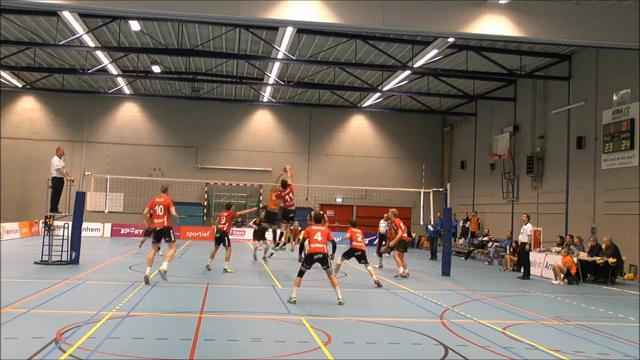Attack: (268, 160, 294, 255)
Block: (265, 163, 283, 251)
Player: (288, 212, 343, 304), (205, 202, 256, 272), (143, 185, 178, 283), (335, 219, 381, 286), (383, 209, 408, 277), (249, 208, 269, 261), (139, 213, 153, 248), (307, 204, 328, 225), (289, 221, 301, 251), (139, 226, 153, 248)
ball: (280, 163, 292, 173)
